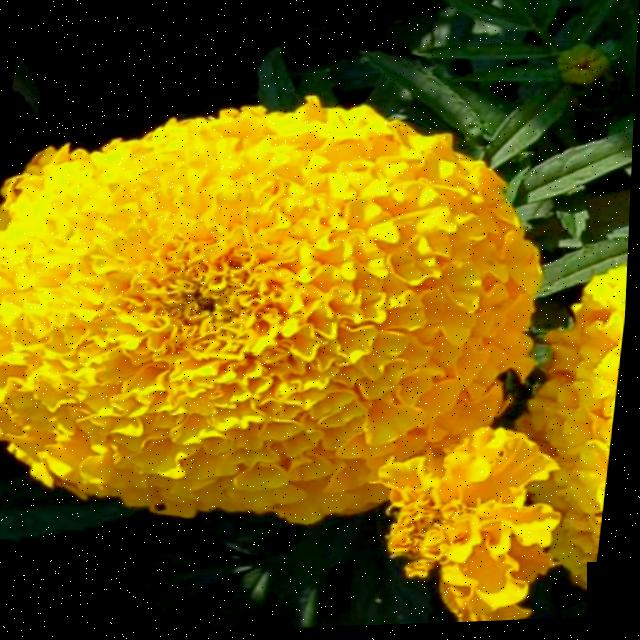marigold: (0, 62, 637, 640)
